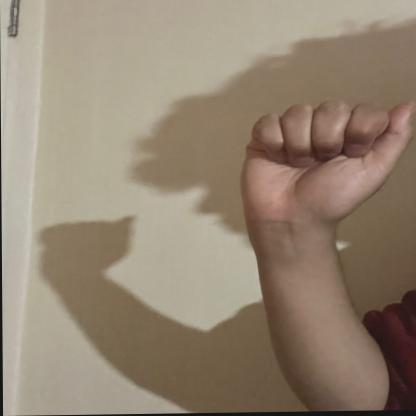A: (231, 99, 416, 236)
